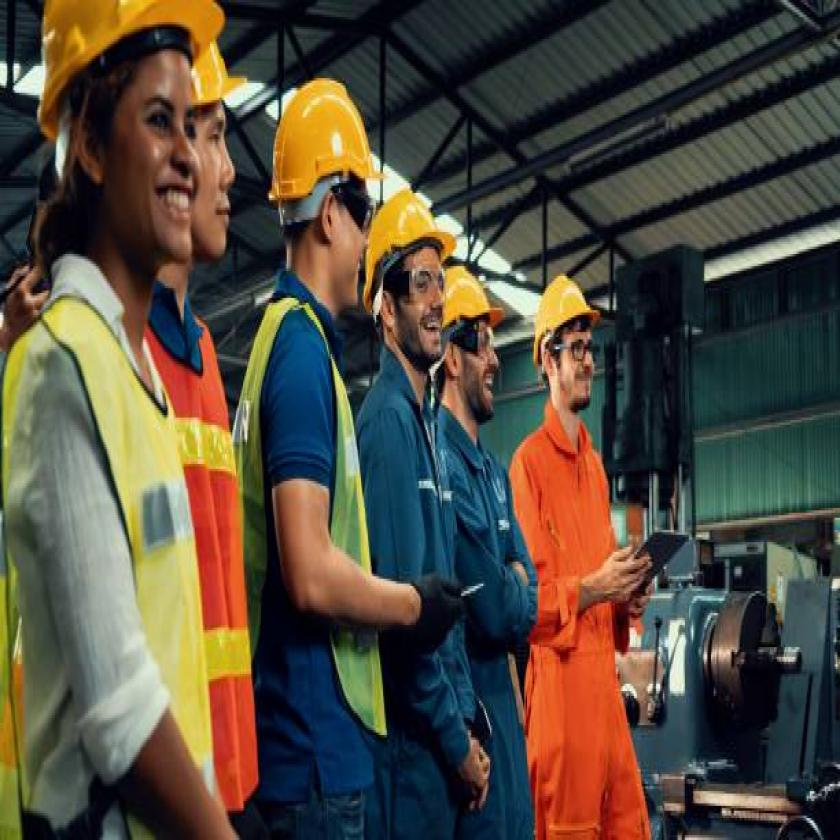Con_casco: (31, 0, 200, 308), (261, 58, 381, 327), (361, 183, 448, 374), (526, 262, 601, 432), (438, 267, 504, 421)
